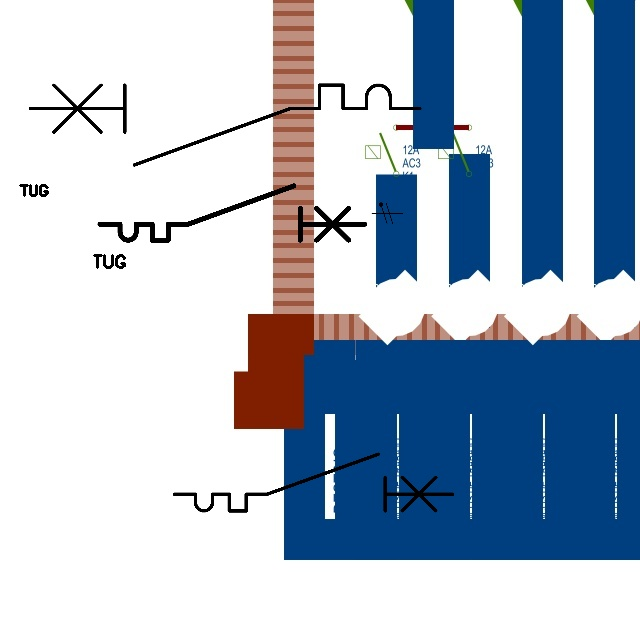interruptor_termomagnetico: (20, 75, 430, 175), (167, 447, 459, 518), (93, 179, 372, 247)
